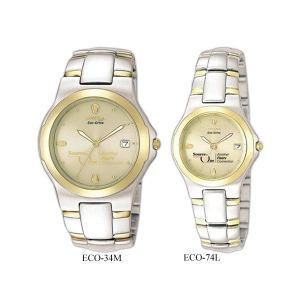watch: (38, 89, 165, 207), (174, 99, 257, 185)
